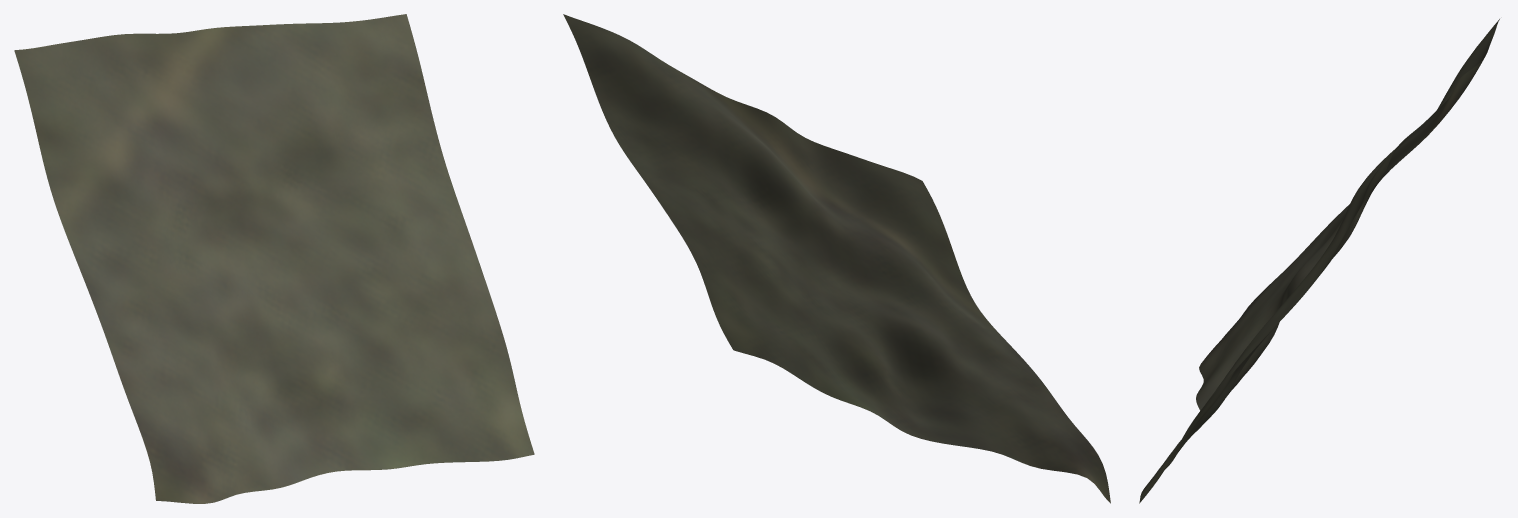
Rendered from ground_mid_07_04.obj.
3 renders of one model, left to right at view 1: azimuth 30°, elevation 25°; view 2: azimuth 150°, elevation 25°; view 3: azimuth 270°, elevation 25°, orthographic. The views are drawn at different scales.
Parts seen in each view (by area): view 1: ground_mid_07_04; view 2: ground_mid_07_04; view 3: ground_mid_07_04.
Boxes of the visible parts, x1,y1,x2,y2 form: ground_mid_07_04: (14, 14, 534, 503); ground_mid_07_04: (563, 14, 1110, 503); ground_mid_07_04: (1139, 19, 1499, 503).
Size of the model in its own units: 200 by 200 by 198.
1 material, 1 textured.
